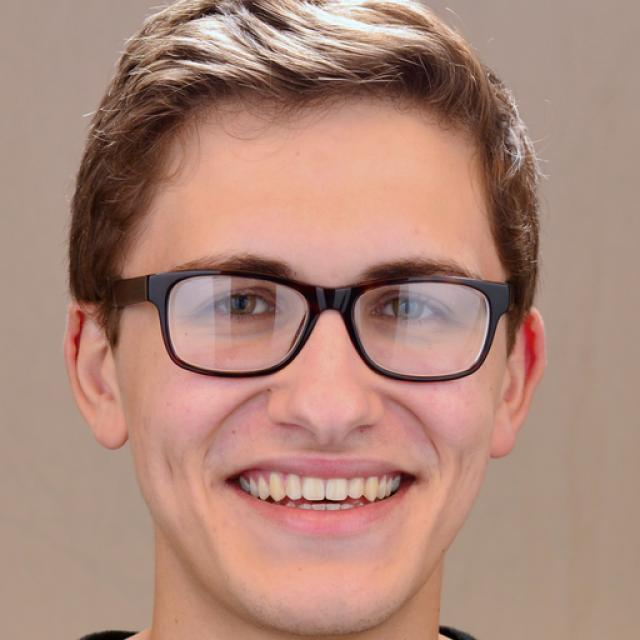happy: (120, 103, 501, 632)
